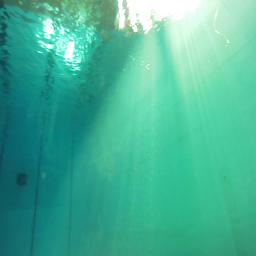Full: (16, 179, 28, 186)
